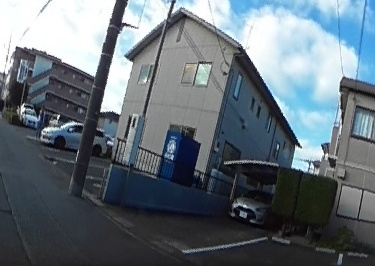person: (32, 103, 44, 138)
